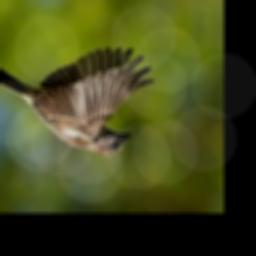Sparrow: (0, 48, 154, 156)
